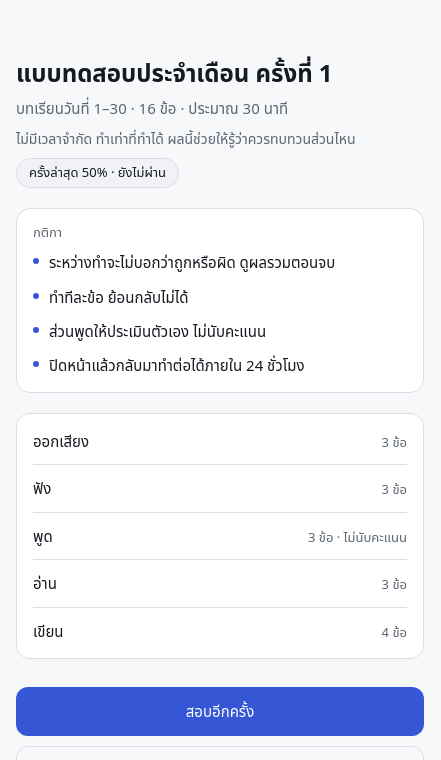
Test: CheckpointApp › a retake gets a fresh session and every exercise again
Click the button "สอบอีกครั้ง": (220, 712) left=16, top=687, right=424, bottom=736
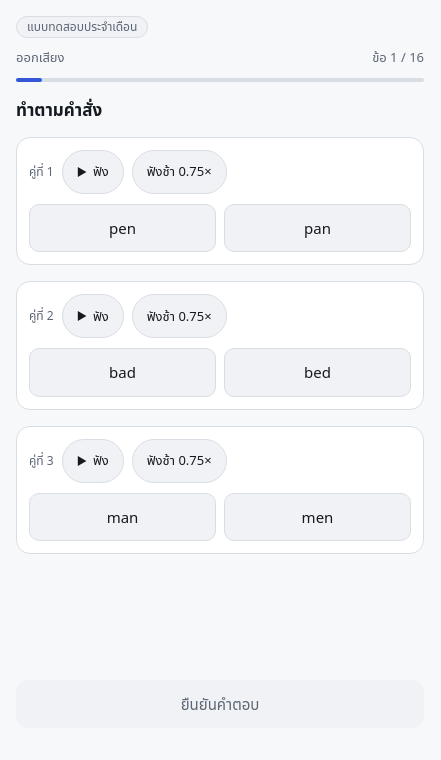
Now the text "ข้อ 1 / 16" is shown, box left=372, top=48, right=424, bottom=68
